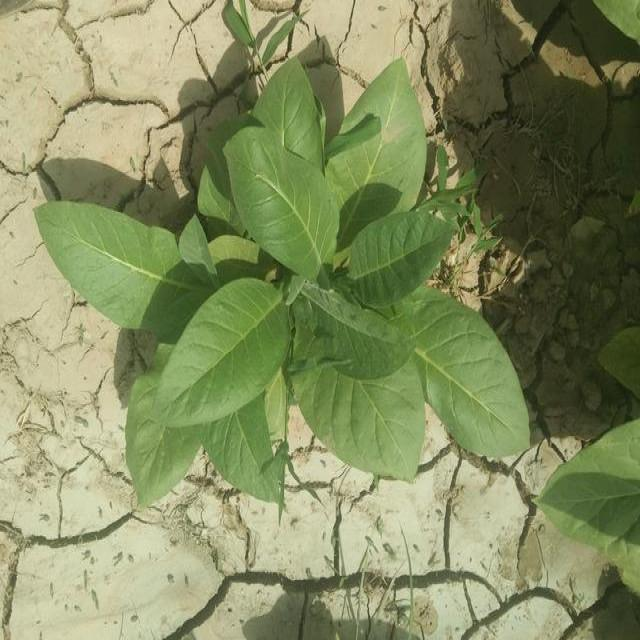crop: (44, 195, 272, 491), (254, 259, 526, 479), (246, 80, 438, 287)
